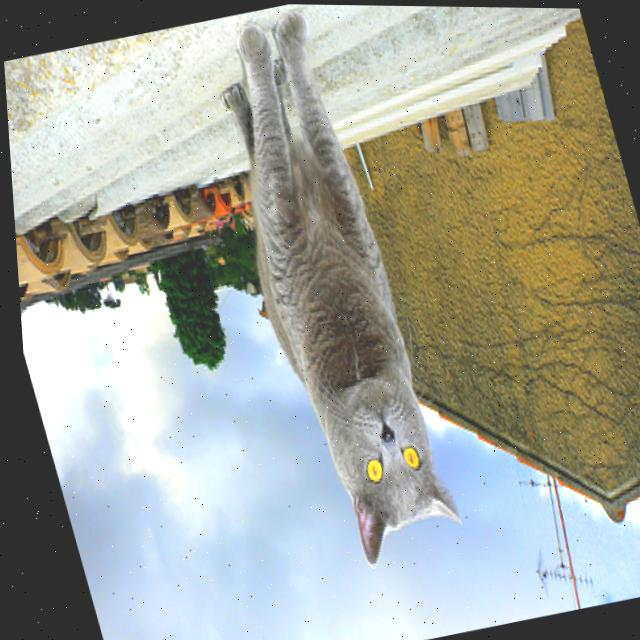British Shorthair: (181, 2, 470, 584)
